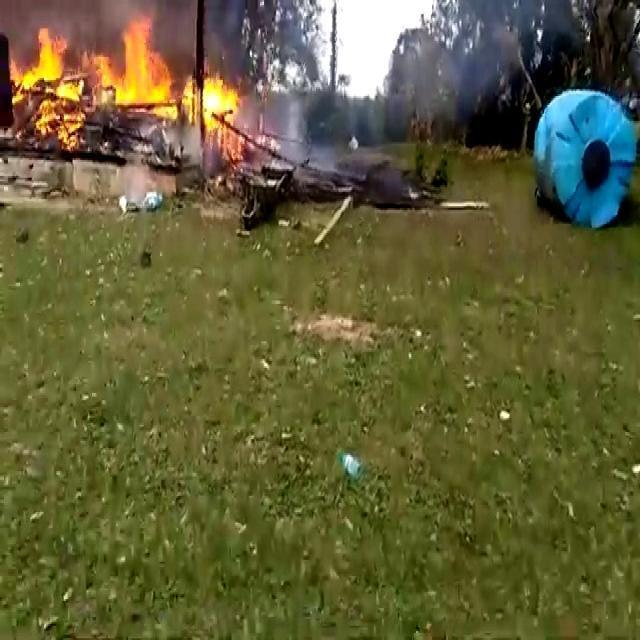Fire: (13, 8, 268, 156)
Smoke: (270, 0, 524, 169)
